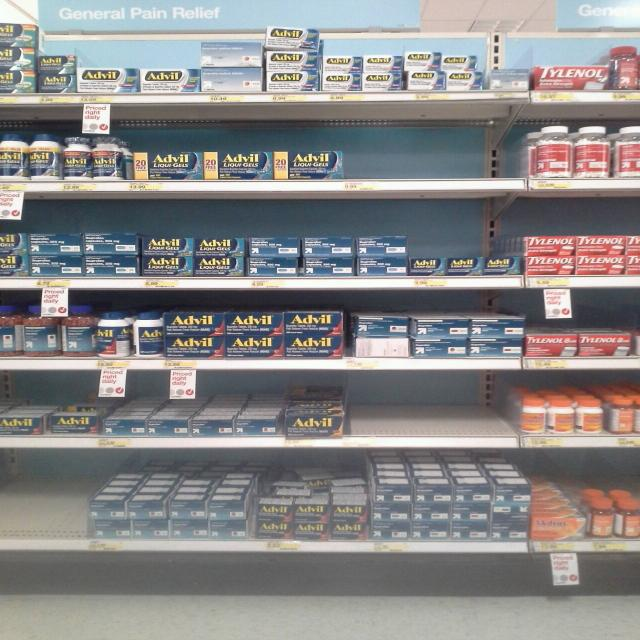void: (351, 370, 513, 438), (350, 126, 526, 176), (0, 448, 87, 544)
